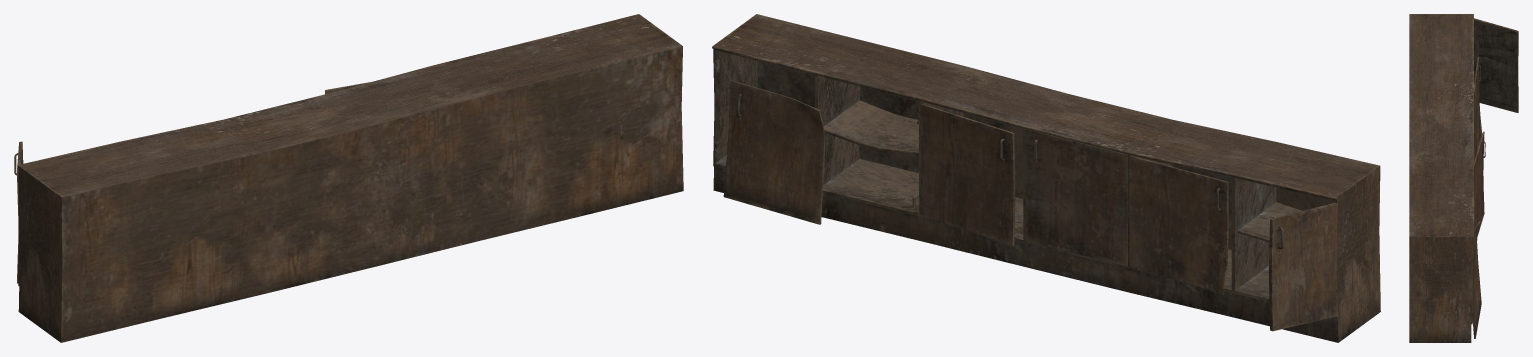
The model's file is galley-cabinets-run.glb.
3 renders of one model, left to right at view 1: azimuth 30°, elevation 25°; view 2: azimuth 150°, elevation 25°; view 3: azimuth 270°, elevation 25°, orthographic. The views are drawn at different scales.
Parts seen in each view (by area): view 1: galley-cabinets-run; view 2: galley-cabinets-run; view 3: galley-cabinets-run.
Boxes of the visible parts, x1,y1,x2,y2 form: galley-cabinets-run: (14, 14, 683, 342); galley-cabinets-run: (712, 14, 1380, 342); galley-cabinets-run: (1409, 14, 1518, 342).
Bounding box in the file's own units: 5.05 × 1.14 × 1.05.
Materials: 1 (1 with a texture image).
